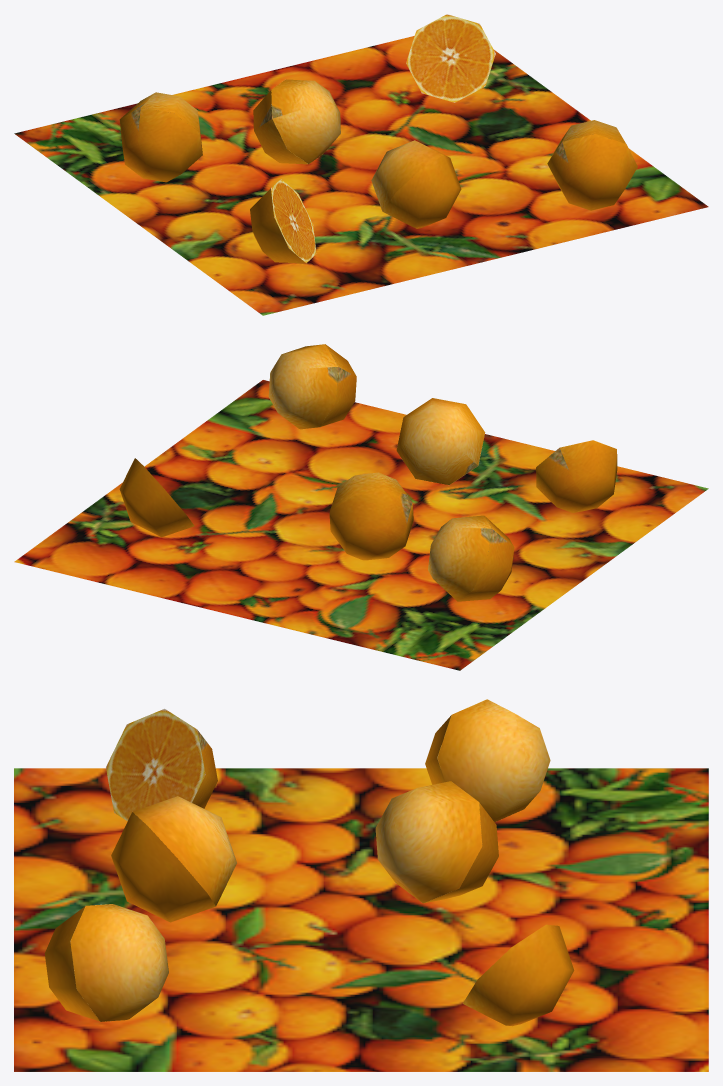
File: orange.FBX
3 renders of one model, top to bottom at view 1: azimuth 30°, elevation 25°; view 2: azimuth 150°, elevation 25°; view 3: azimuth 270°, elevation 25°, orthographic. The views are drawn at different scales.
Visible parts, largest first — view 1: orange; view 2: orange; view 3: orange.
Boxes of the visible parts, bbox=[...] form: orange: bbox=[14, 14, 708, 315]; orange: bbox=[14, 344, 708, 670]; orange: bbox=[14, 699, 708, 1071].
Bounding box in the file's own units: 195 × 189 × 33.48.
